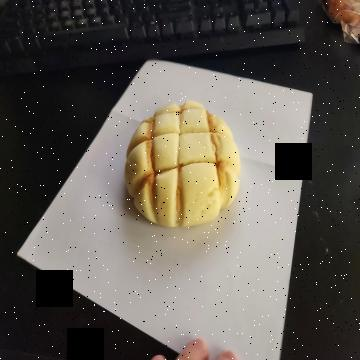melon_bread: (123, 100, 241, 228)
